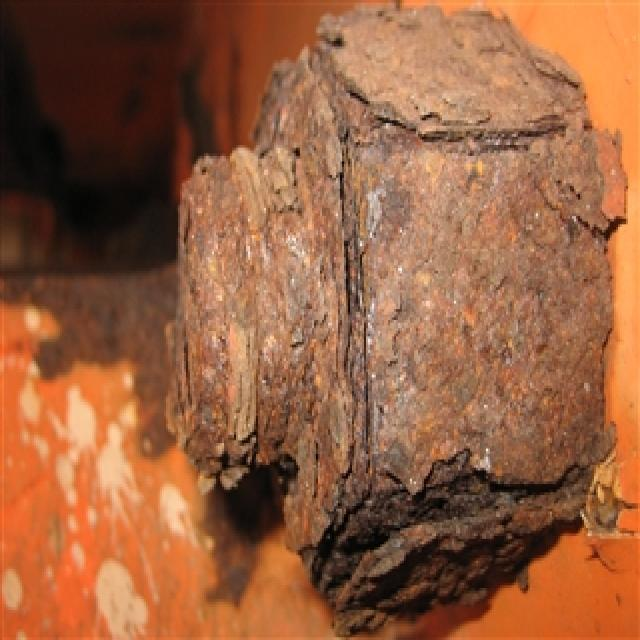Rusty bolt: (174, 8, 619, 612)
